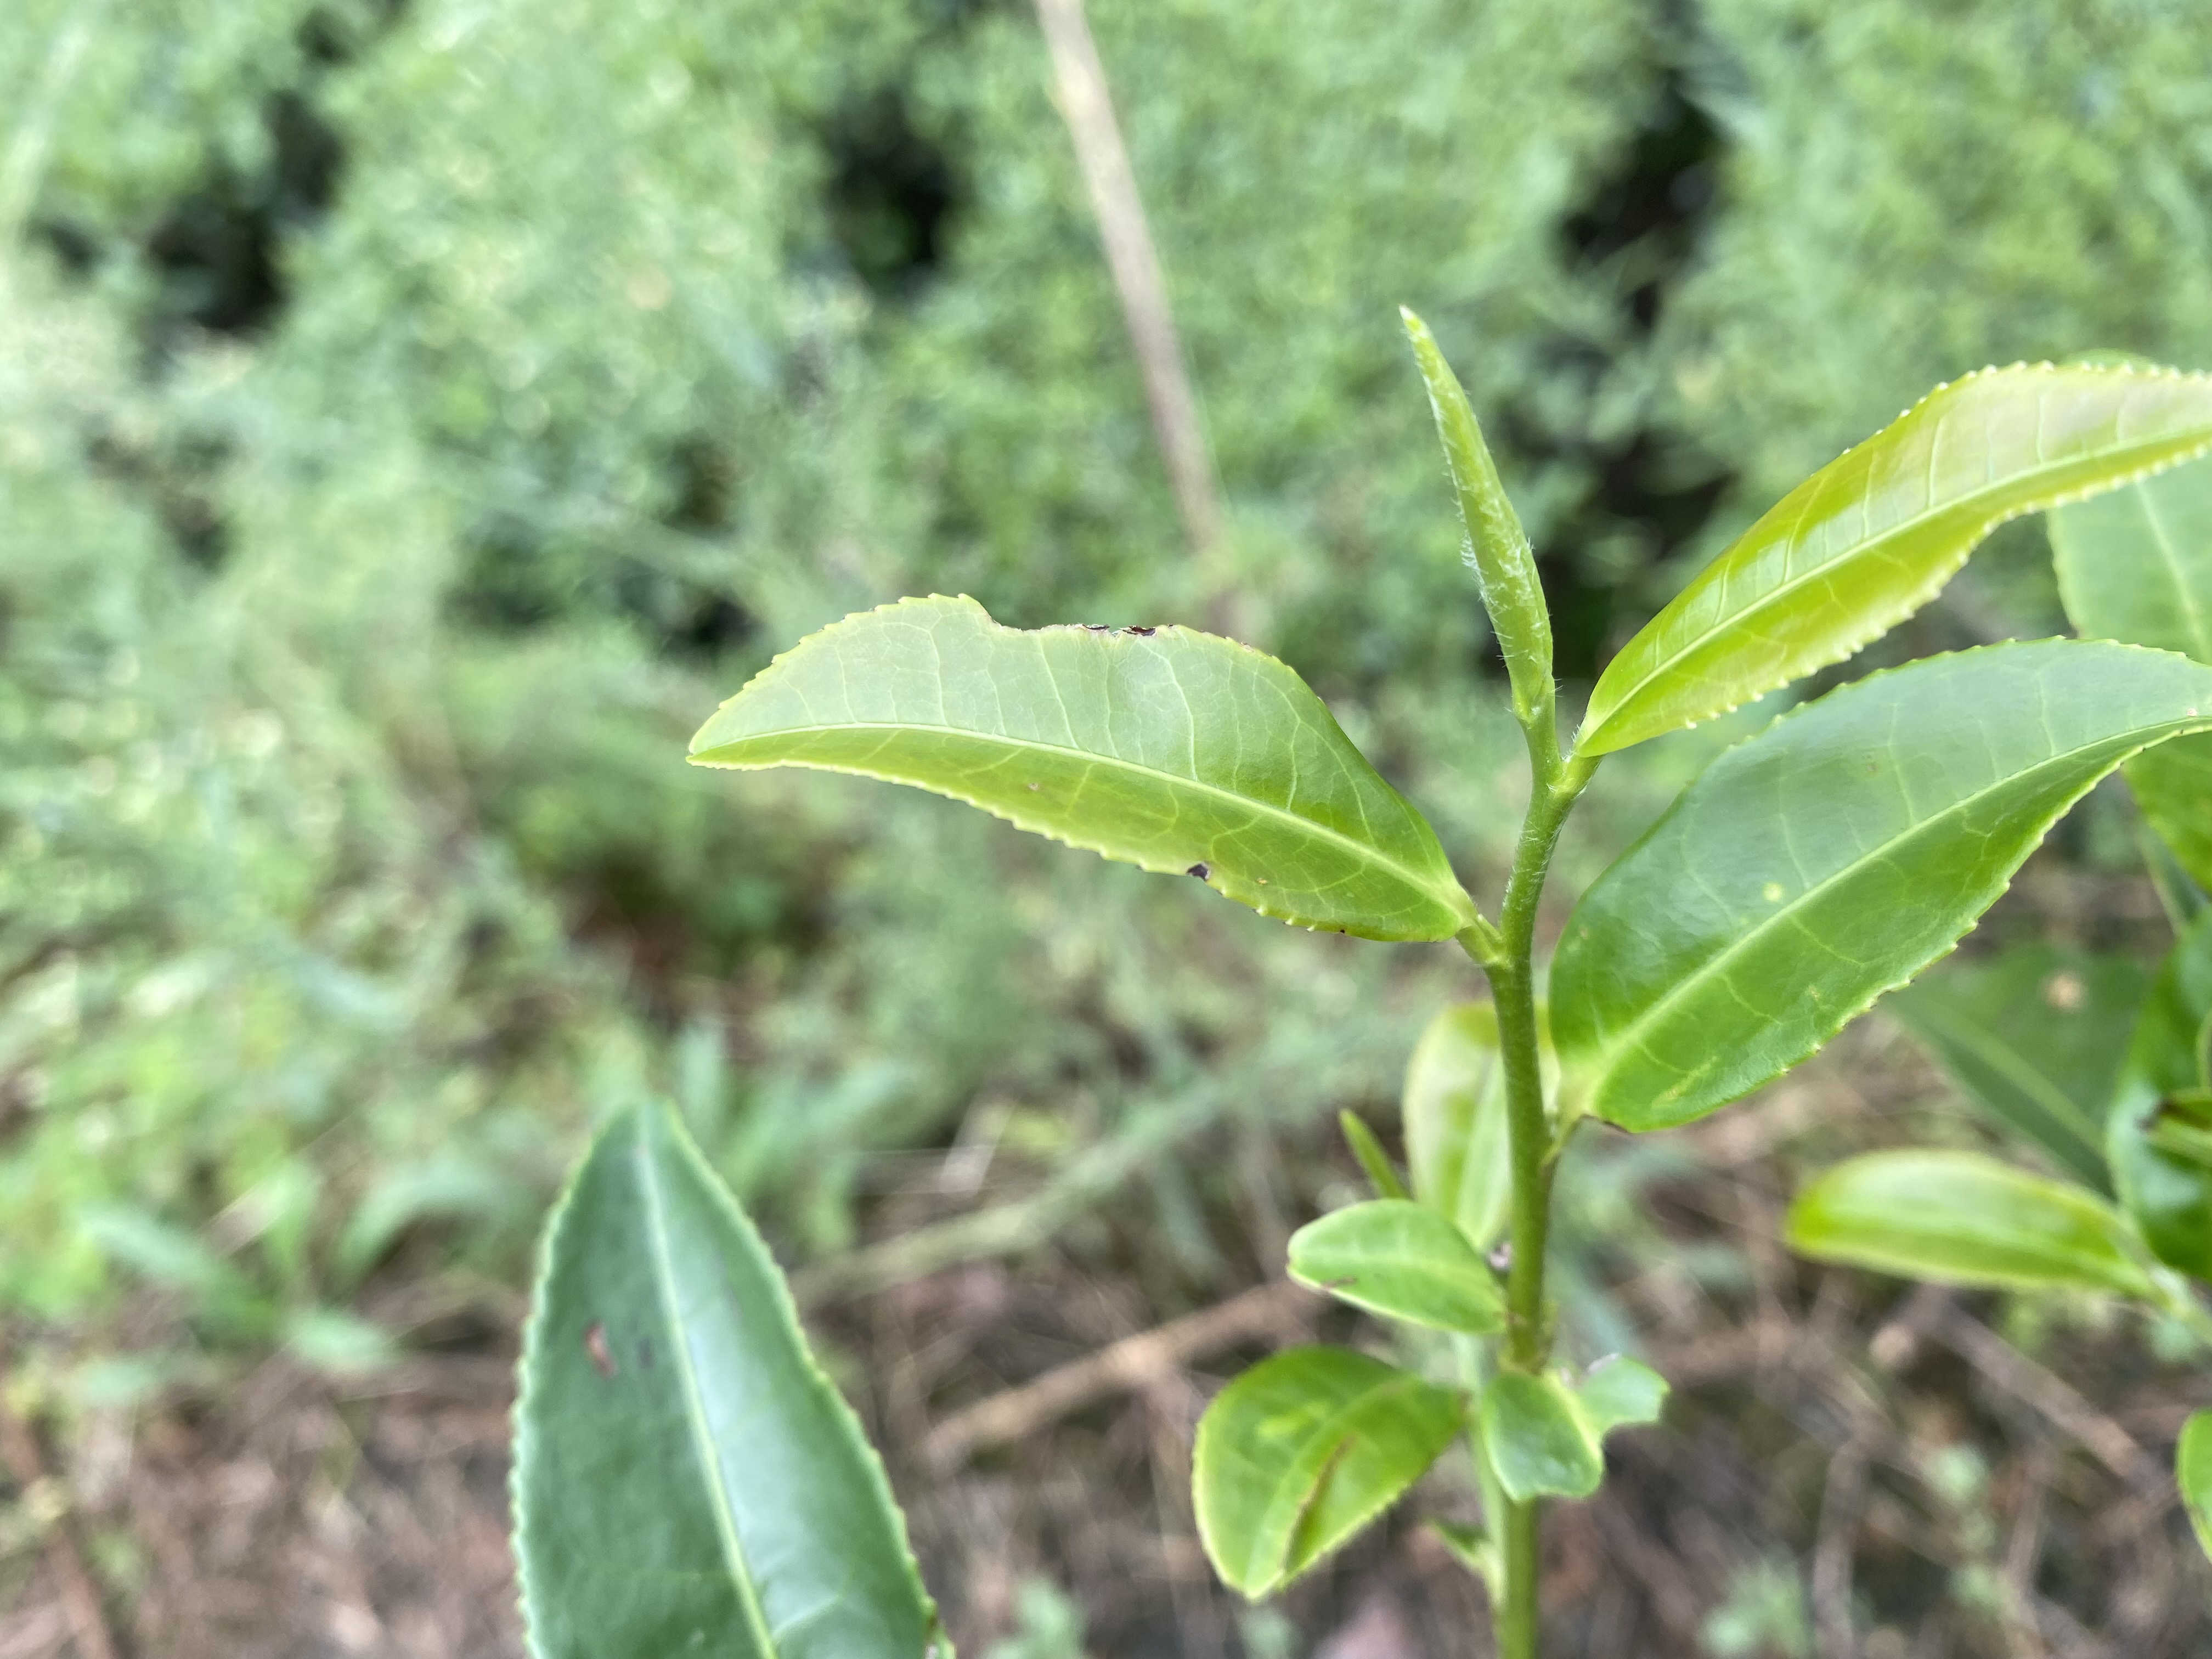chihuo_high: (1482, 1354, 1677, 1506)
healthy: (1552, 636, 2212, 1131)
tanju_low: (683, 592, 1484, 945), (1575, 359, 2212, 763), (507, 1093, 961, 1659), (1191, 1349, 1456, 1603), (1282, 1195, 1508, 1331)
